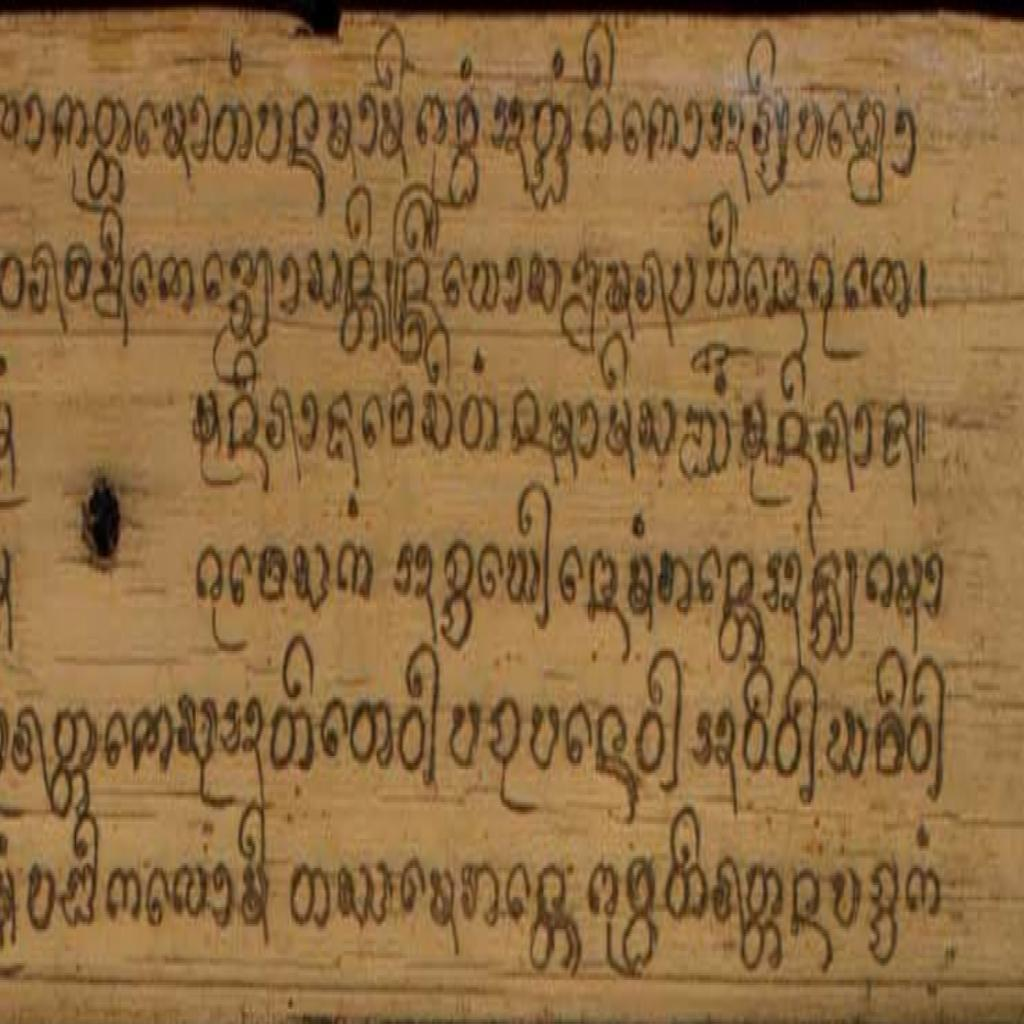LN001: (105, 859, 145, 929)
LN003: (193, 539, 227, 609)
